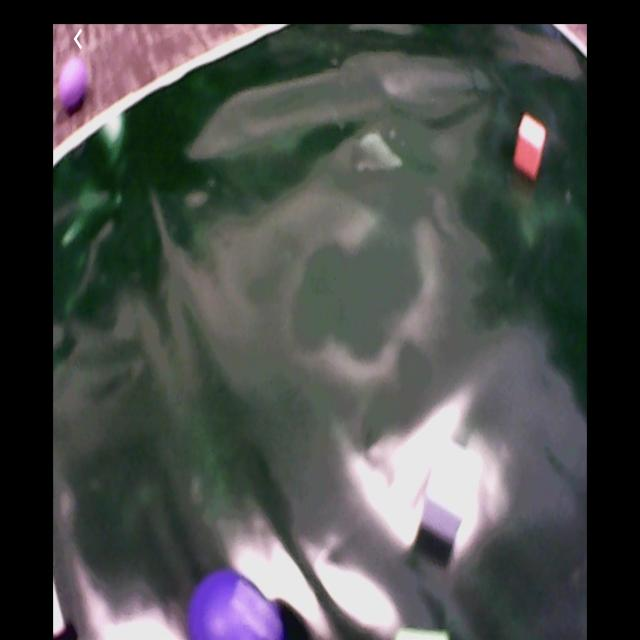ball: (187, 572, 284, 640), (59, 60, 89, 116)
